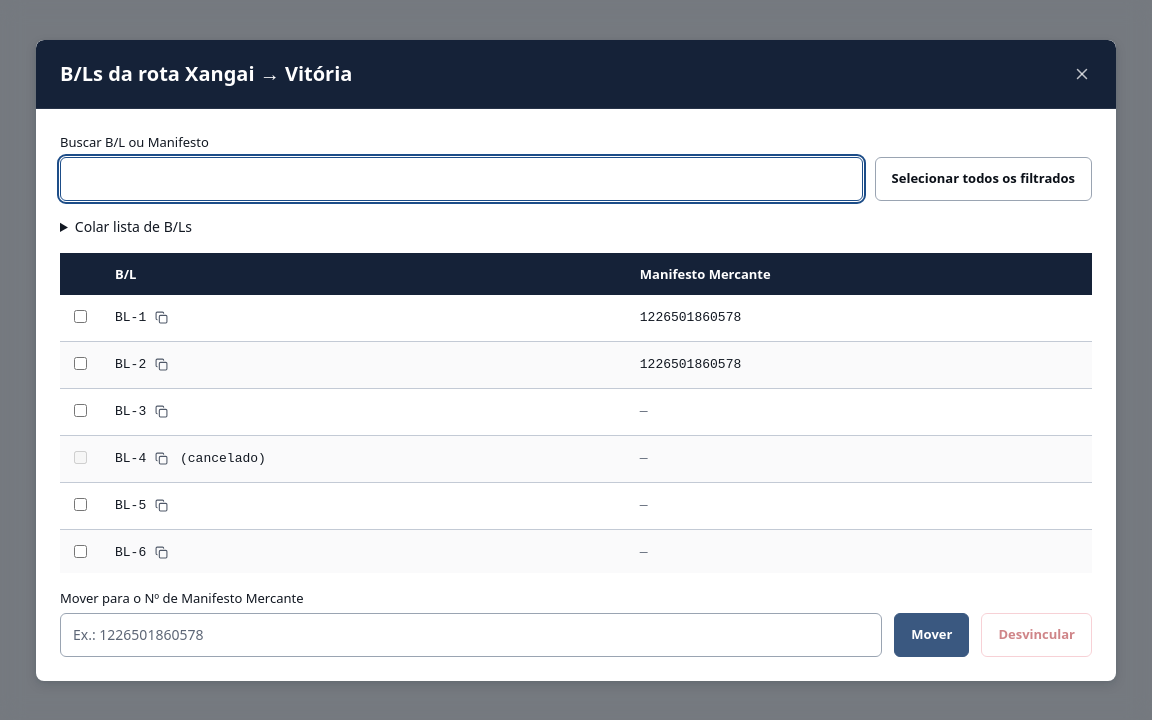
Test: lista só os B/Ls da rota e Shift seleciona o intervalo, sem o cancelado
Click the checkbox named "Selecionar BL-1".
click(80, 316)  # box [74,310,87,322]
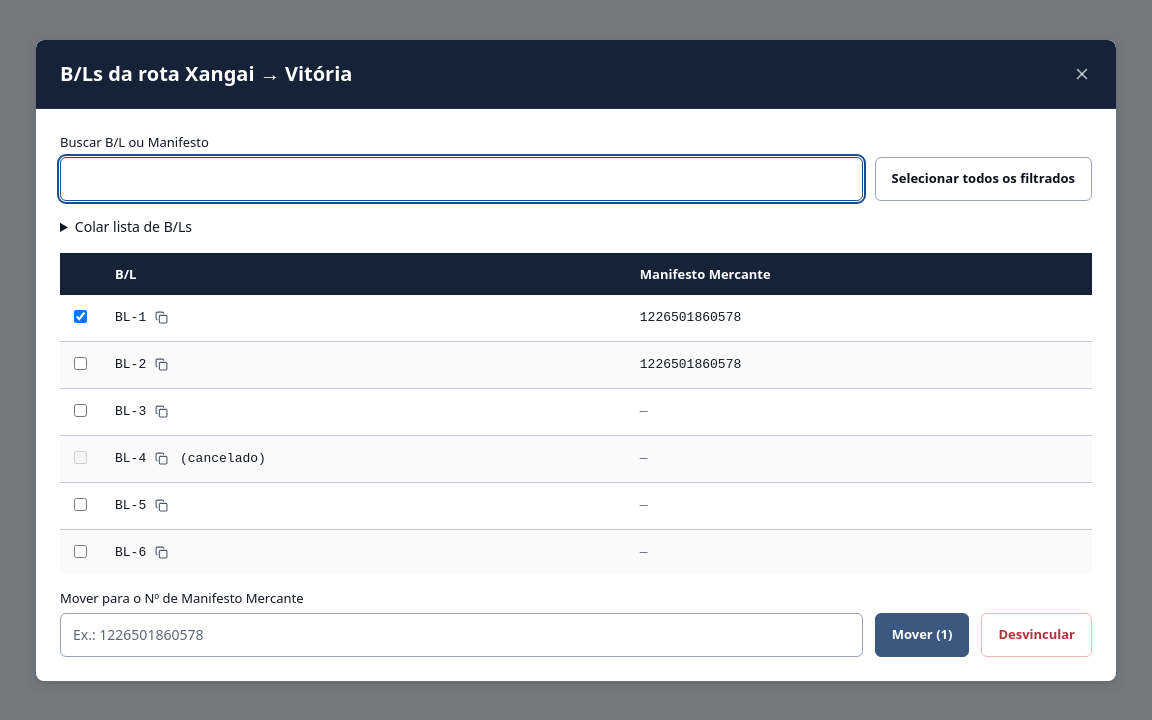
Click the checkbox named "Selecionar BL-3".
click(80, 410)  # box [74,404,87,416]
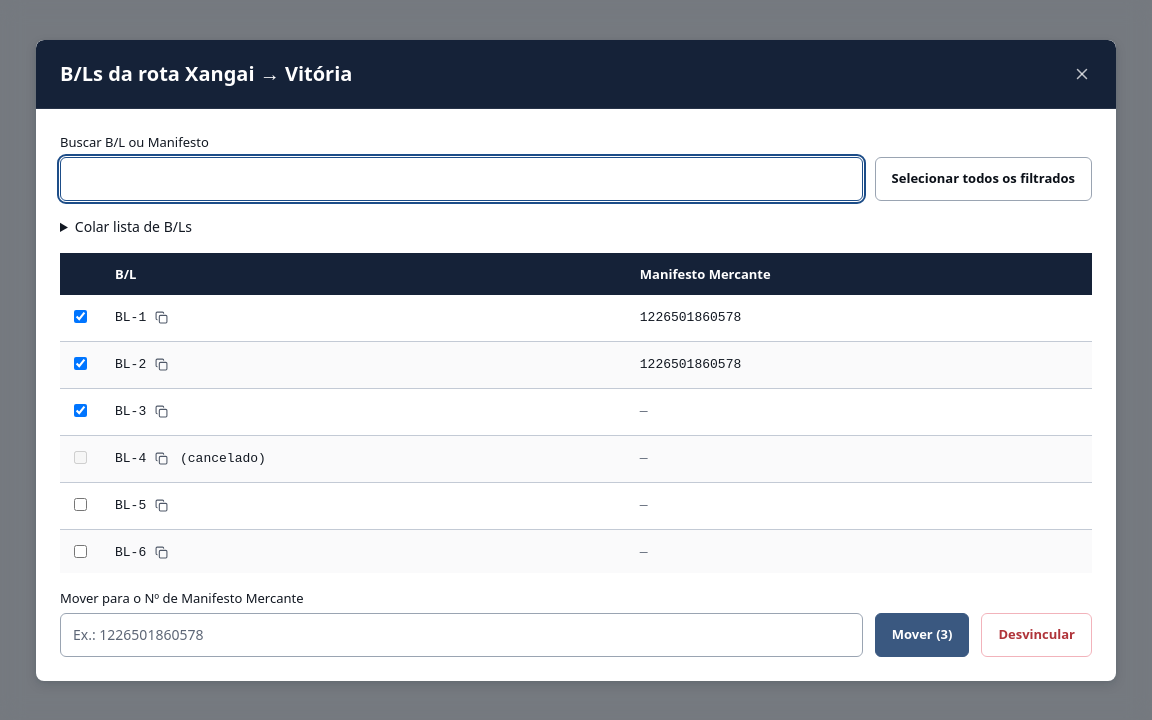
Expected: the checkbox named "Selecionar BL-4" is disabled, [74,450,87,464]
Expected: the checkbox named "Selecionar BL-3" is checked, [74,404,87,416]
Expected: the checkbox named "Selecionar BL-2" is checked, [74,356,87,370]
